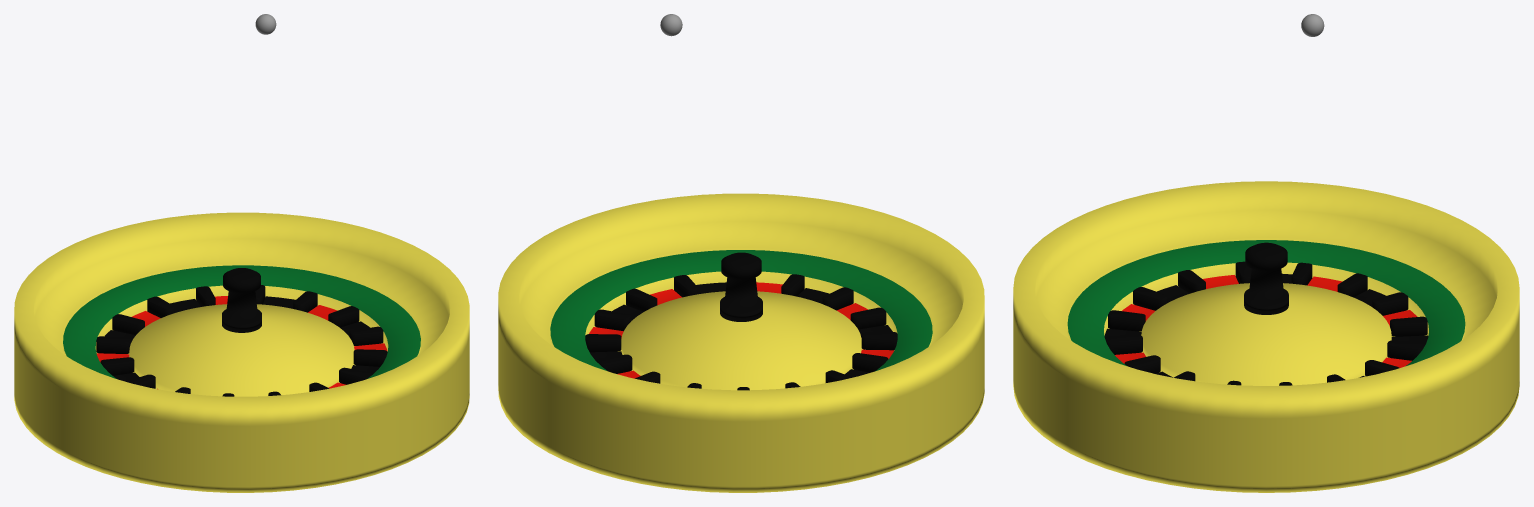
The model's file is roulette_wheel.glb.
3 views of the same model, side by side, from view 1: azimuth 30°, elevation 25°; view 2: azimuth 150°, elevation 25°; view 3: azimuth 270°, elevation 25° (orthographic). The views are drawn at different scales.
Parts seen in each view (by area): view 1: Cylinder, wheel_root; view 2: Cylinder, wheel_root; view 3: Cylinder, wheel_root.
Boxes of the visible parts, <box> form: Cylinder: <box>14,212,469,492</box>; wheel_root: <box>63,265,420,396</box>; Cylinder: <box>498,193,984,492</box>; wheel_root: <box>550,250,932,390</box>; Cylinder: <box>1013,181,1519,492</box>; wheel_root: <box>1067,240,1465,385</box>.
Size of the model in its own units: 43.81 by 37.73 by 43.81.
